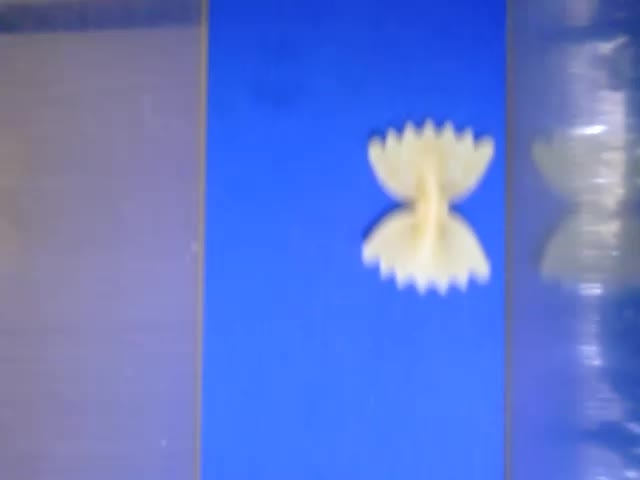farfalle: (360, 119, 495, 297)
